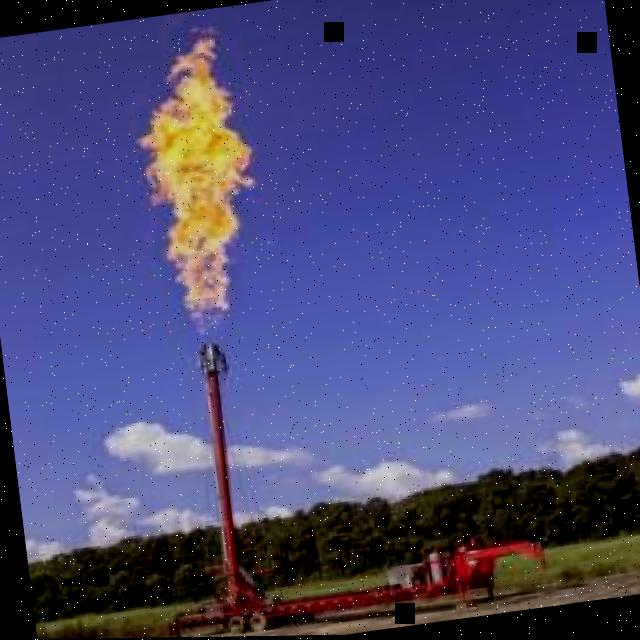fire: (137, 32, 253, 332)
